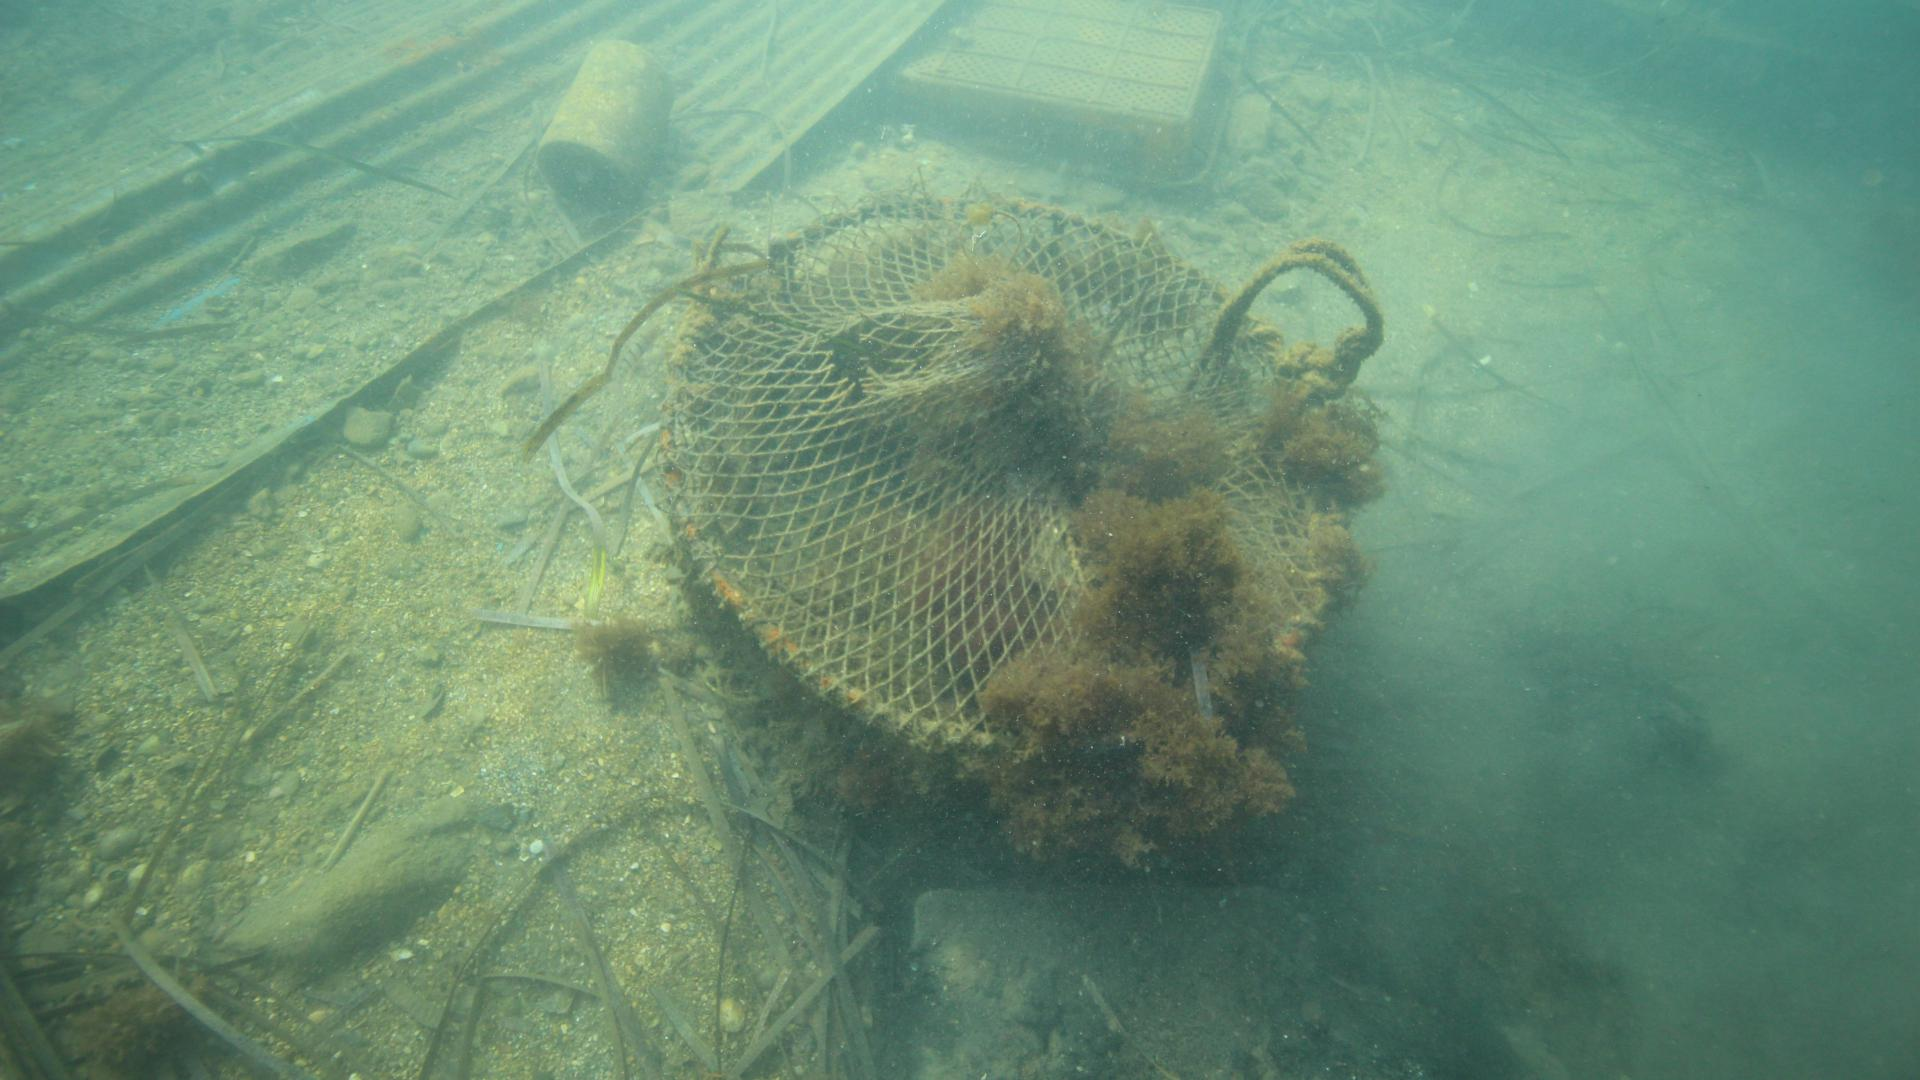bundle of ropes: (1193, 236, 1379, 400)
circular fish trap: (658, 190, 1349, 819)
